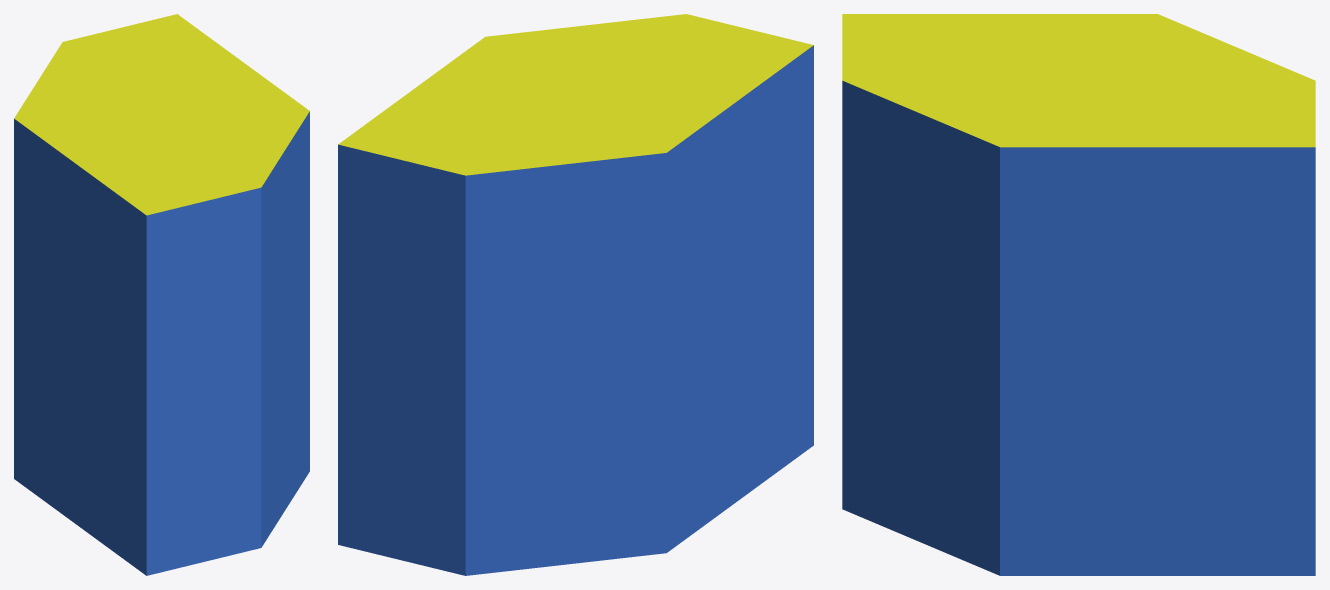
File: walls_type_7.glb
3 views of the same model, side by side, from view 1: azimuth 30°, elevation 25°; view 2: azimuth 150°, elevation 25°; view 3: azimuth 270°, elevation 25° (orthographic). The views are drawn at different scales.
Parts seen in each view (by area): view 1: Type_7; view 2: Type_7; view 3: Type_7.
Part boxes in pixels (x1,y1,x2,y2): Type_7: [14, 14, 309, 575]; Type_7: [338, 14, 813, 575]; Type_7: [842, 14, 1315, 575].
Size of the model in its own units: 0.6667 by 1 by 1.
